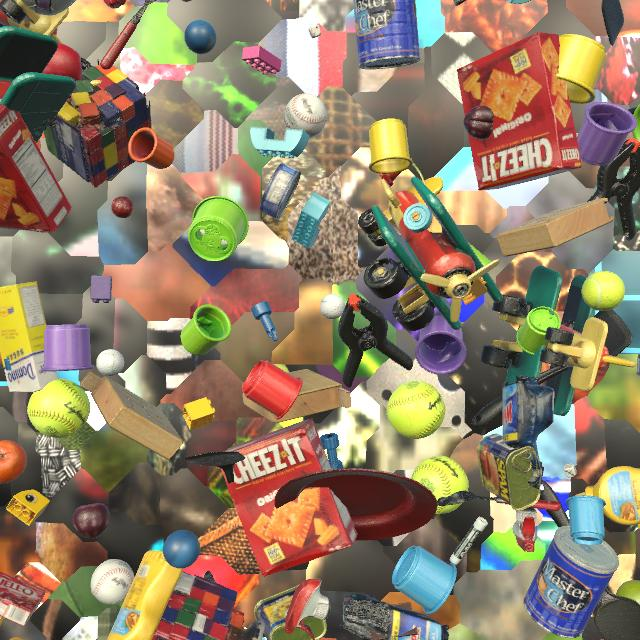ycb_002_master_chef_can: (523, 526, 619, 638), (353, 0, 420, 70)
ycb_003_cracker_box: (221, 418, 357, 577), (457, 32, 582, 190), (0, 97, 72, 232)
ycb_004_sugar_box: (0, 281, 58, 392)
ycb_005_tomato_soup_can: (453, 0, 466, 6)
ycb_006_mustard_bottle: (107, 550, 184, 640), (575, 466, 640, 525)
ycb_007_tuna_fish_can: (259, 163, 301, 220), (636, 353, 640, 376)
ycb_009_gelatin_box: (0, 571, 46, 626)
ycb_010_potted_meat_can: (477, 434, 540, 511), (254, 585, 327, 640)
ycb_012_strawberry: (103, 0, 126, 9)
ycb_013_apple: (42, 42, 82, 81)
ycb_015_peach: (9, 637, 28, 640)
ycb_016_pear: (616, 580, 640, 604)
ycb_017_orange: (0, 440, 27, 484)
ycb_018_plum: (72, 503, 110, 539), (464, 105, 494, 140)
